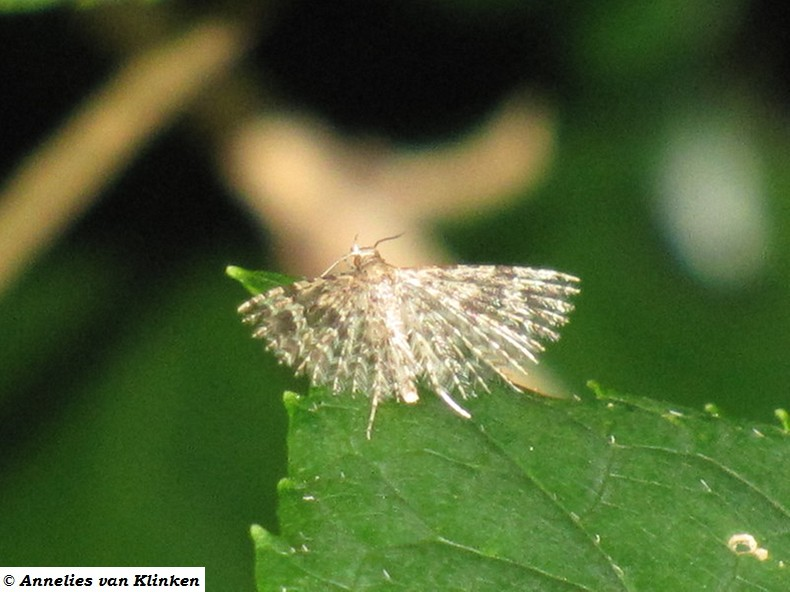Alucitidae: (222, 223, 579, 441)
moth: (220, 221, 577, 439)
